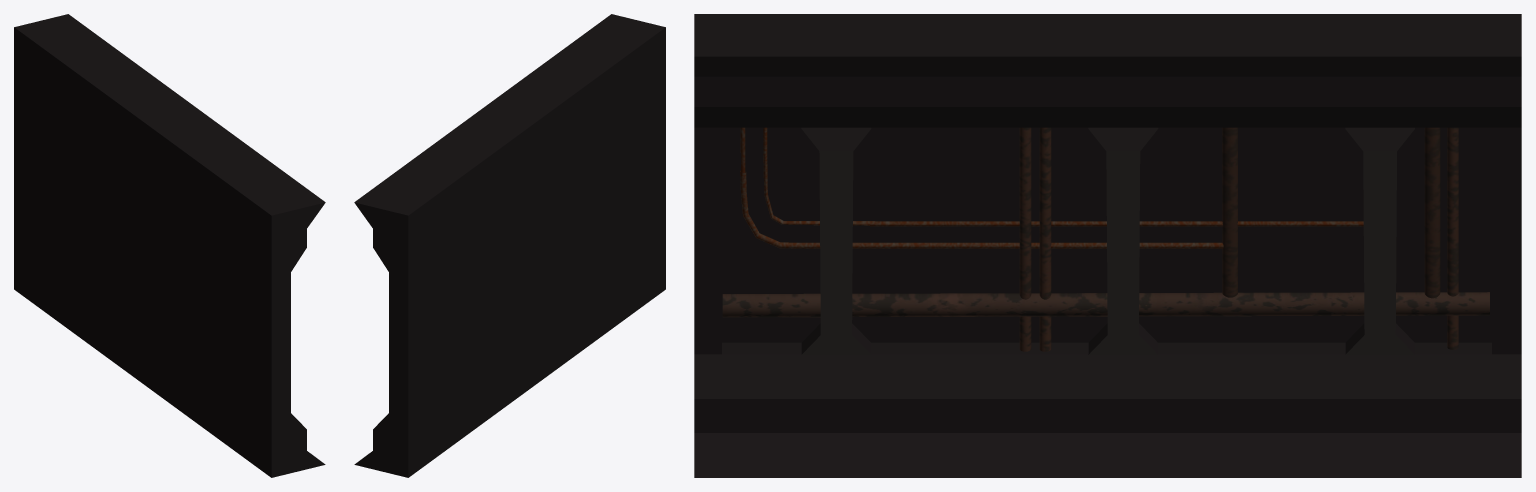
The model's file is wall 2 variety.fbx.
3 renders of one model, left to right at view 1: azimuth 30°, elevation 25°; view 2: azimuth 150°, elevation 25°; view 3: azimuth 270°, elevation 25°, orthographic. The views are drawn at different scales.
Parts seen in each view (by area): view 1: pCube1; view 2: pCube1; view 3: pCube1, pCylinder1, pCube2, pCube3, pCube4, pCylinder13, pCylinder9, pCylinder2, pCylinder3, pCylinder8, pCylinder11, pCylinder6.
Part boxes in pixels (<box>): pCube1: <box>14,14,325,477</box>; pCube1: <box>354,14,665,477</box>; pCube1: <box>694,14,1521,477</box>; pCylinder1: <box>722,292,1489,317</box>; pCube2: <box>801,127,871,354</box>; pCube3: <box>1088,127,1158,354</box>; pCube4: <box>1345,127,1414,354</box>; pCylinder13: <box>1424,127,1440,298</box>; pCylinder9: <box>1222,127,1237,297</box>; pCylinder2: <box>1019,127,1031,351</box>; pCylinder3: <box>1039,127,1051,351</box>; pCylinder8: <box>870,221,1363,226</box>; pCylinder11: <box>1447,127,1458,349</box>; pCylinder6: <box>801,242,1223,248</box>.
Size of the model in its own units: 3.31 by 15.29 by 27.19.
